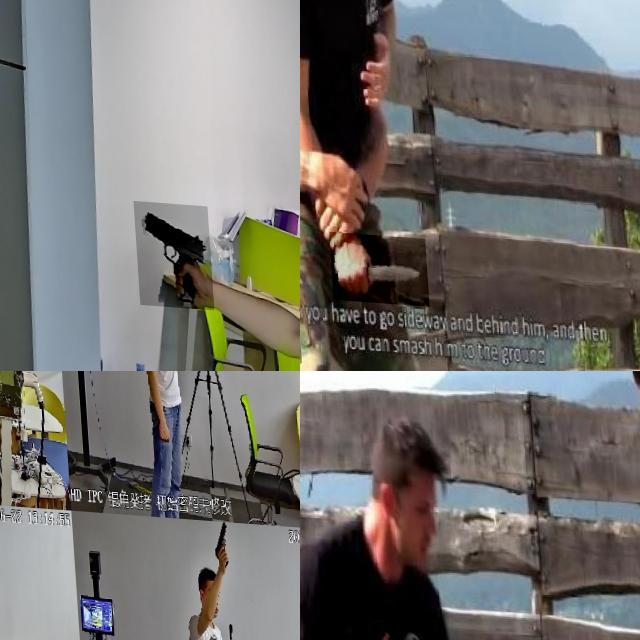-: (323, 228, 423, 302)
gun-knife-thesis - v11 Yolov5 augmented: (130, 195, 208, 304), (205, 512, 224, 560), (0, 502, 11, 551), (212, 371, 238, 390), (0, 371, 14, 388)
